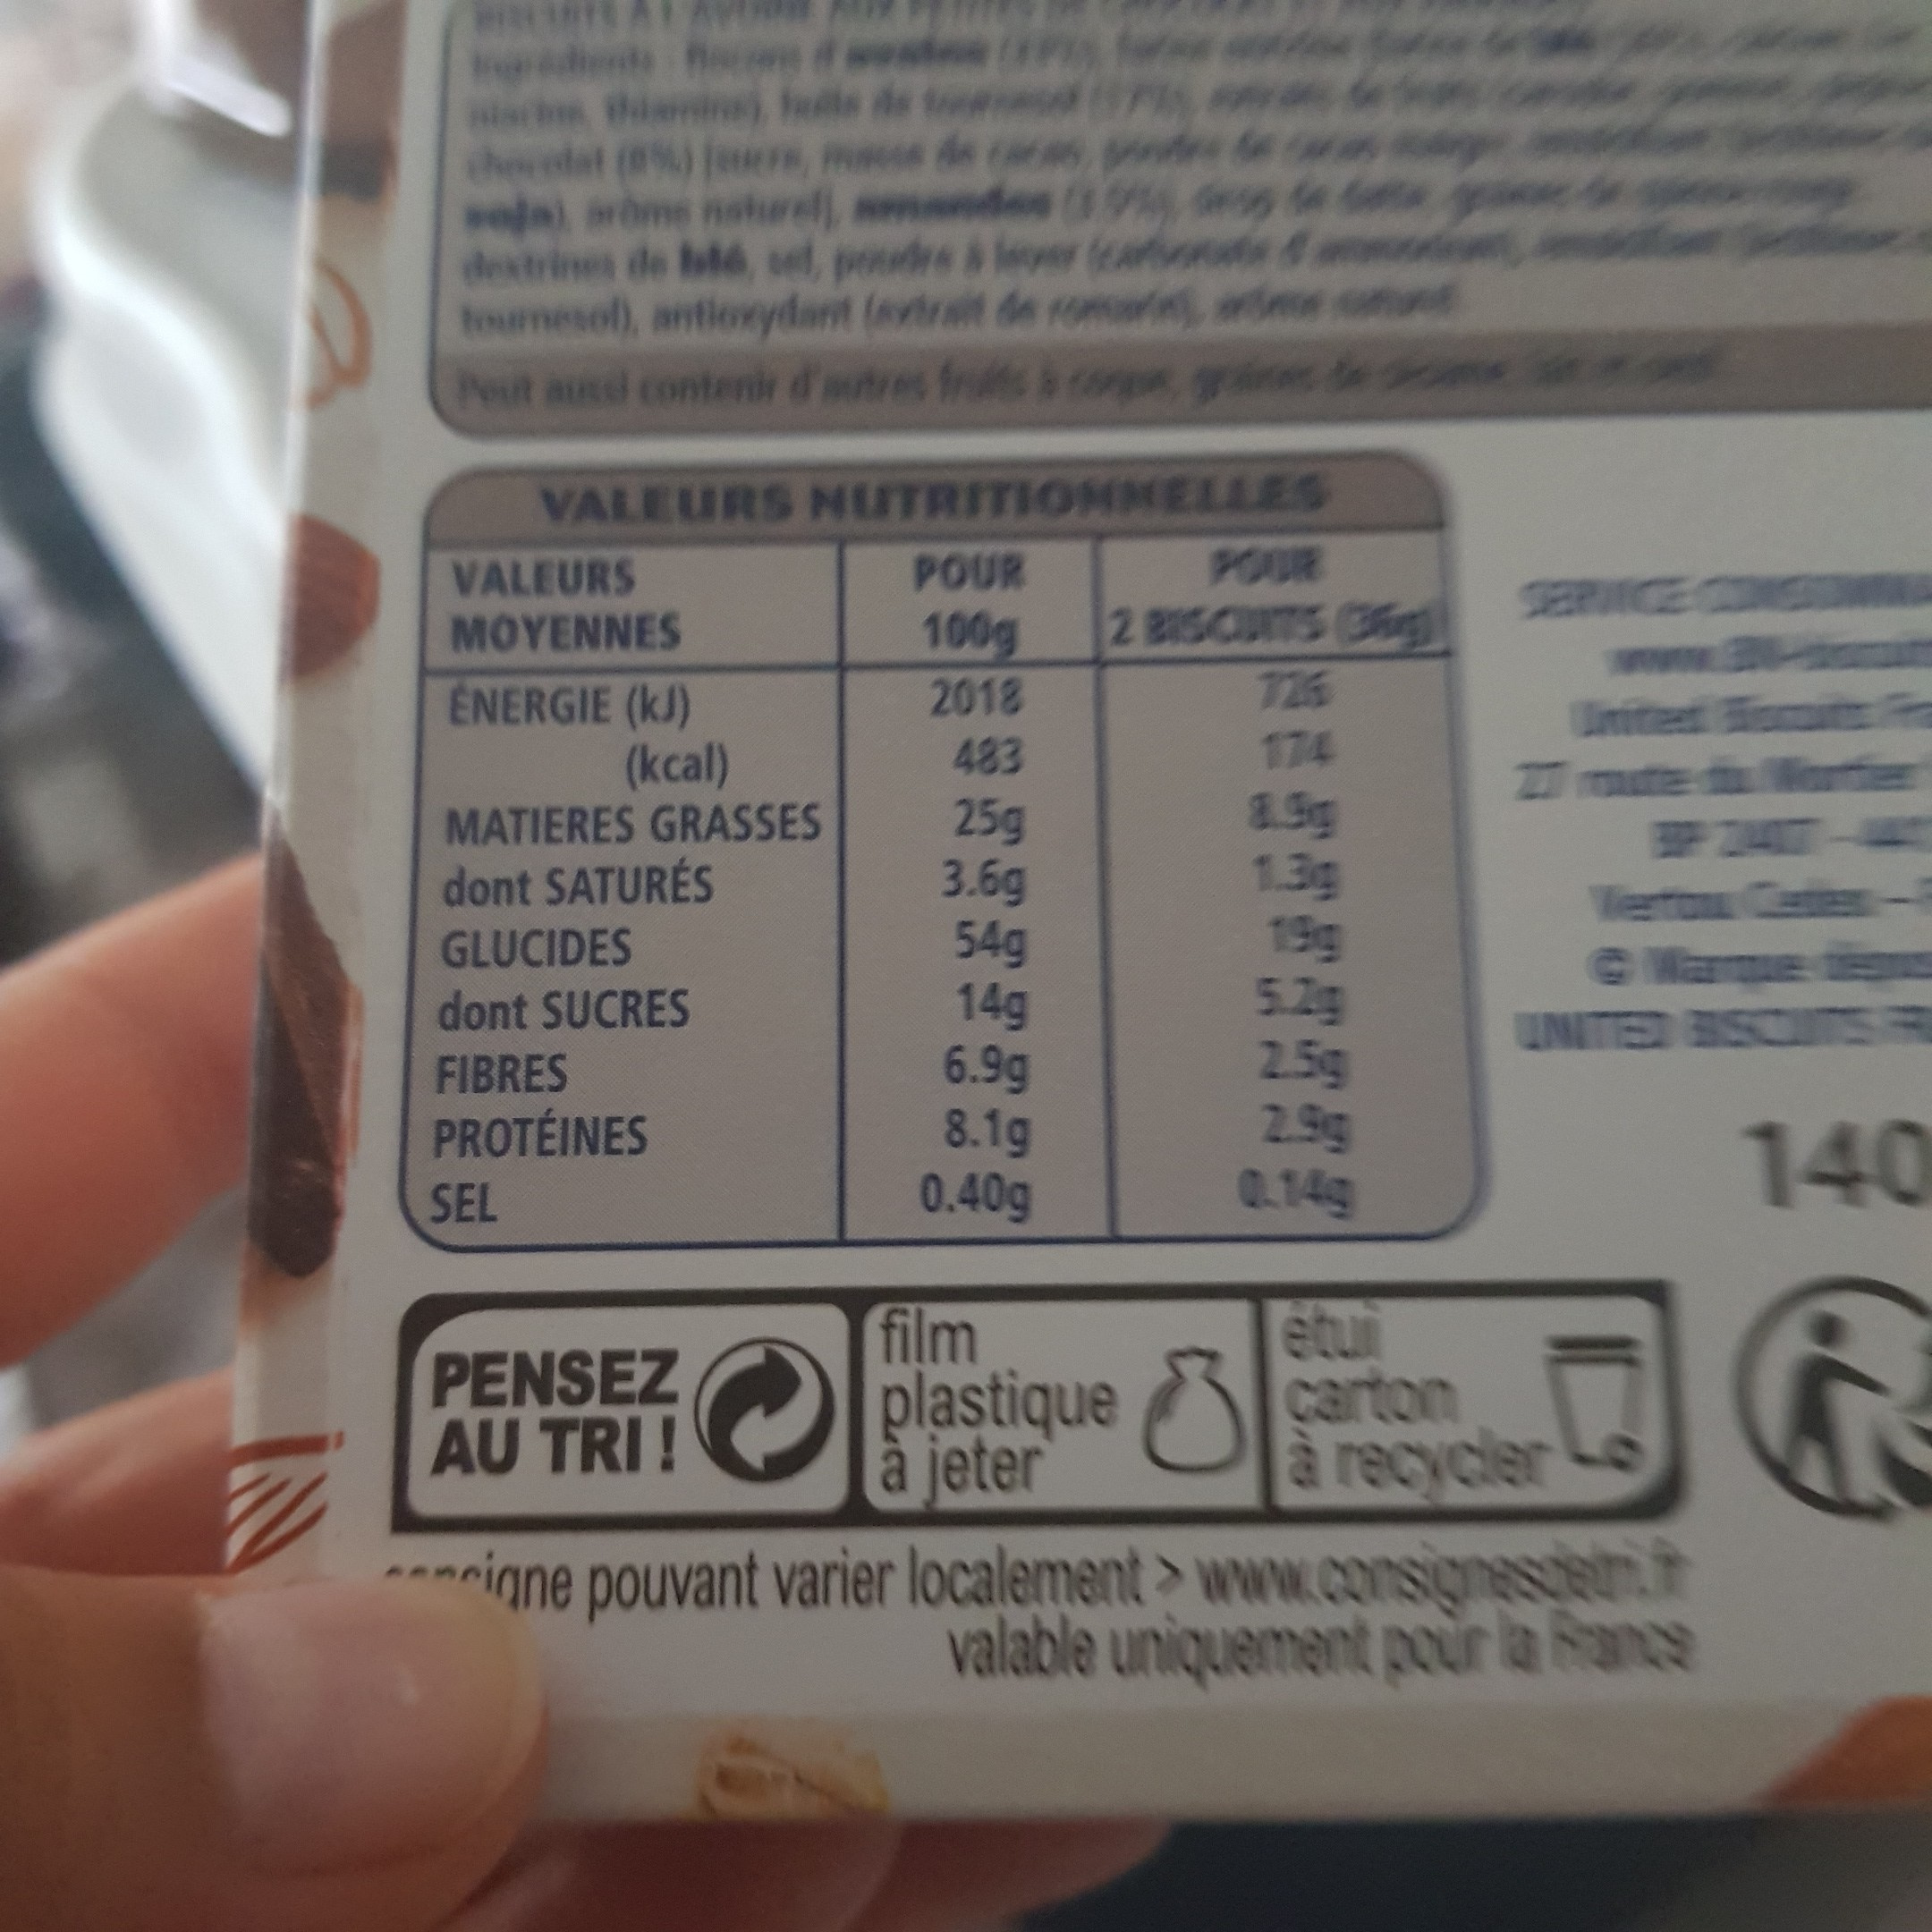column: (430, 557, 817, 1228), (1108, 547, 1437, 1217), (913, 550, 1040, 1230)
table: (395, 453, 1484, 1251)
